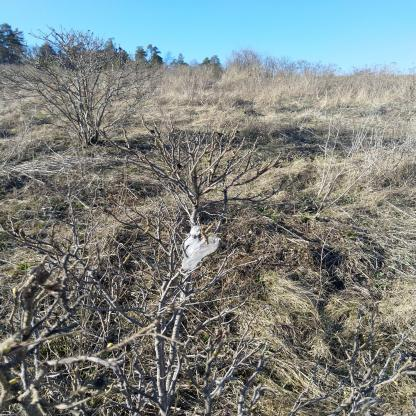plastik: (182, 226, 222, 272)
